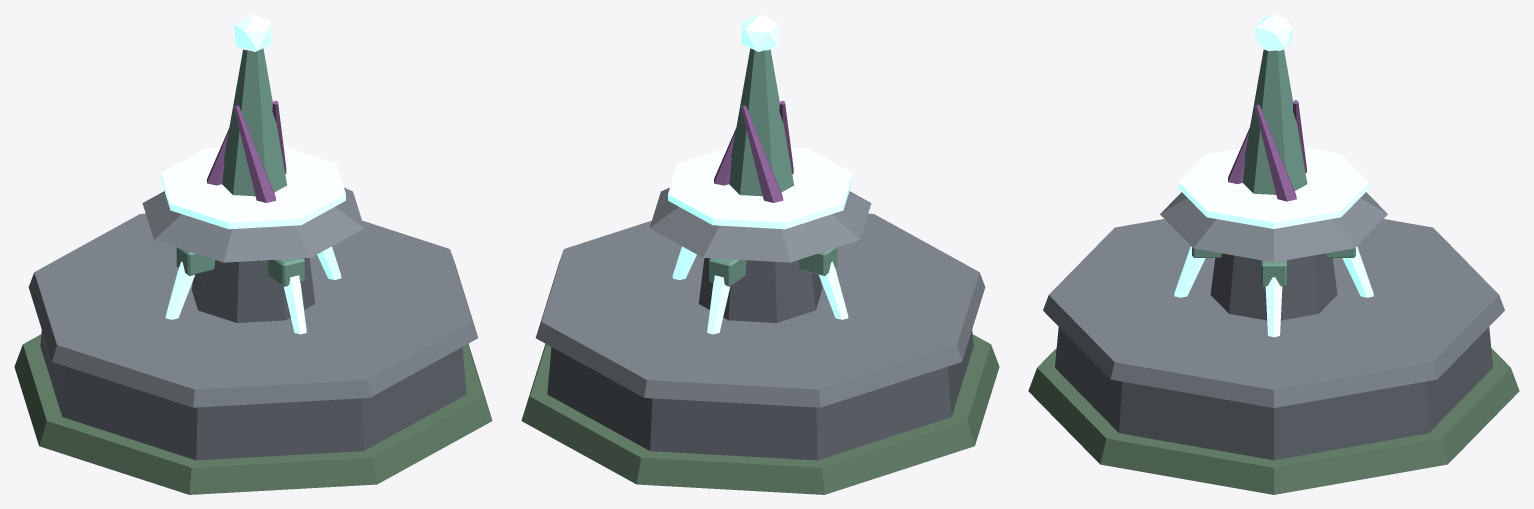
The model's file is outdoor_fountain.glb.
3 views of the same model, side by side, from view 1: azimuth 30°, elevation 25°; view 2: azimuth 150°, elevation 25°; view 3: azimuth 270°, elevation 25° (orthographic).
Visible parts, largest first — view 1: Outdoor_Fountain; view 2: Outdoor_Fountain; view 3: Outdoor_Fountain.
Boxes of the visible parts, bbox=[...] form: Outdoor_Fountain: bbox=[14, 14, 492, 494]; Outdoor_Fountain: bbox=[521, 14, 999, 494]; Outdoor_Fountain: bbox=[1028, 14, 1519, 494].
Bounding box in the file's own units: 5.31 × 4.49 × 5.31.
